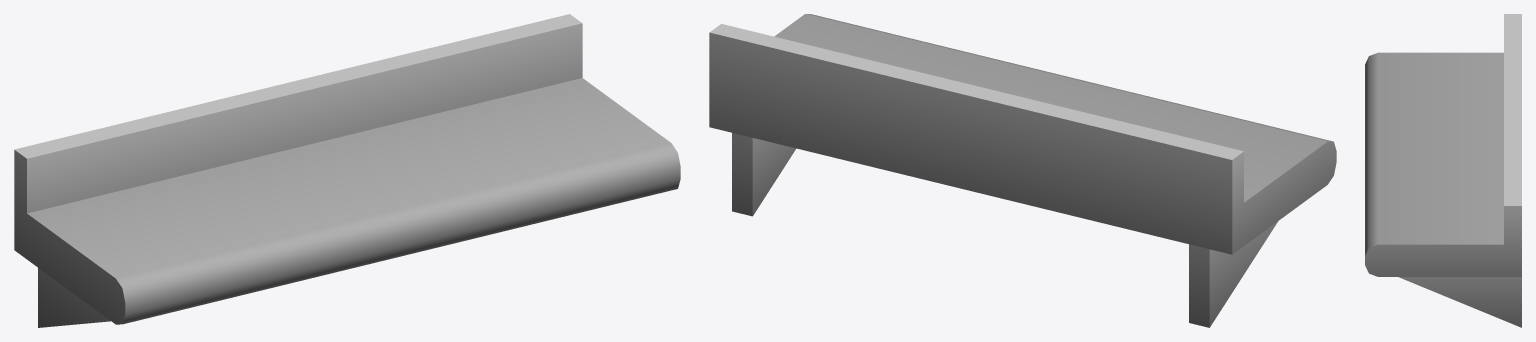
Rendered from Wall_Rack_01.fbx.
3 views of the same model, side by side, from view 1: azimuth 30°, elevation 25°; view 2: azimuth 150°, elevation 25°; view 3: azimuth 270°, elevation 25° (orthographic). The views are drawn at different scales.
Parts seen in each view (by area): view 1: Wall_Rack_01; view 2: Wall_Rack_01; view 3: Wall_Rack_01.
Part boxes in pixels (x1,y1,x2,y2): Wall_Rack_01: [14, 14, 680, 327]; Wall_Rack_01: [709, 14, 1336, 327]; Wall_Rack_01: [1365, 14, 1521, 327].
Size of the model in its own units: 100 by 31.7 by 34.58.
